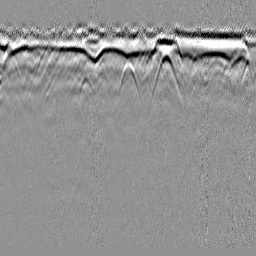cavity: (116, 59, 141, 96)
